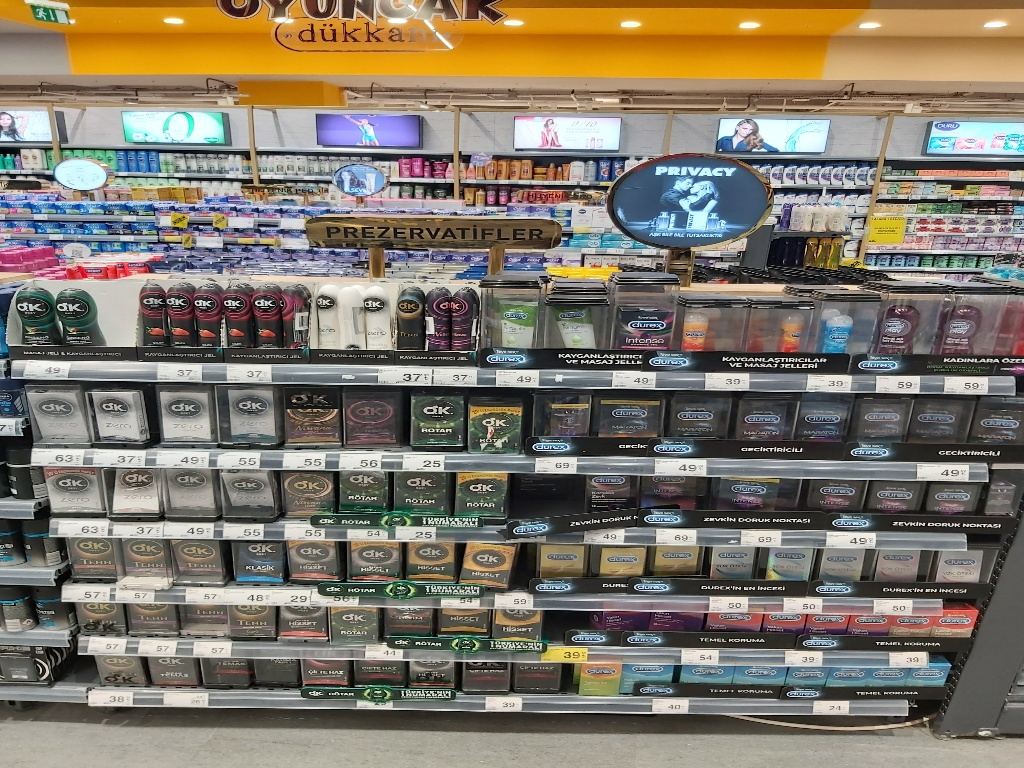urun: (945, 273, 1015, 369), (544, 268, 612, 361), (608, 264, 676, 357), (877, 273, 943, 366), (481, 268, 541, 360), (817, 284, 876, 369), (590, 385, 668, 449), (24, 379, 90, 452), (87, 383, 152, 456), (147, 378, 212, 451), (340, 381, 406, 452), (218, 381, 283, 452), (278, 384, 343, 454), (403, 384, 468, 454), (461, 383, 526, 453), (677, 289, 742, 357), (745, 289, 810, 357), (56, 530, 120, 591), (111, 529, 175, 590), (714, 471, 790, 521), (909, 399, 973, 457), (51, 278, 100, 351), (45, 465, 109, 520), (667, 392, 727, 449), (728, 396, 788, 453), (104, 463, 164, 520), (969, 396, 1024, 458), (165, 535, 225, 591), (223, 535, 283, 591), (389, 466, 451, 520), (278, 467, 339, 521), (216, 465, 278, 518), (851, 393, 909, 447), (541, 388, 593, 448), (794, 396, 851, 449), (338, 463, 390, 520), (454, 470, 513, 520), (756, 543, 812, 593), (799, 475, 868, 515), (165, 462, 216, 516), (285, 536, 340, 586), (347, 541, 402, 591), (406, 535, 461, 585), (458, 541, 513, 591), (535, 543, 590, 593), (646, 541, 701, 591), (708, 540, 763, 590), (813, 545, 868, 595), (870, 545, 925, 595), (928, 545, 983, 595), (639, 472, 701, 516), (594, 547, 649, 596), (867, 480, 931, 521), (924, 483, 988, 524), (221, 271, 255, 348), (225, 599, 282, 644), (275, 599, 332, 644), (136, 271, 169, 348), (73, 596, 129, 641), (123, 596, 179, 641), (174, 600, 230, 645), (251, 274, 282, 355), (163, 273, 196, 349), (191, 273, 224, 349), (278, 271, 308, 352), (326, 605, 381, 648), (485, 605, 540, 648), (381, 607, 436, 649), (439, 604, 494, 646), (93, 652, 148, 694), (146, 649, 201, 691), (580, 474, 631, 518), (408, 655, 465, 694), (509, 660, 566, 699), (394, 275, 424, 349), (357, 273, 387, 347), (422, 275, 452, 349), (449, 279, 479, 353), (456, 657, 512, 695), (352, 655, 411, 691), (571, 658, 618, 698), (201, 657, 251, 694), (251, 658, 301, 695), (300, 657, 349, 694), (312, 278, 338, 347), (759, 605, 817, 635), (888, 609, 946, 639), (337, 279, 362, 348), (710, 608, 768, 637), (792, 607, 850, 636), (783, 658, 841, 687), (844, 608, 901, 637), (676, 657, 733, 686), (731, 658, 788, 687), (829, 663, 876, 687)
urun2: (13, 279, 52, 344)
